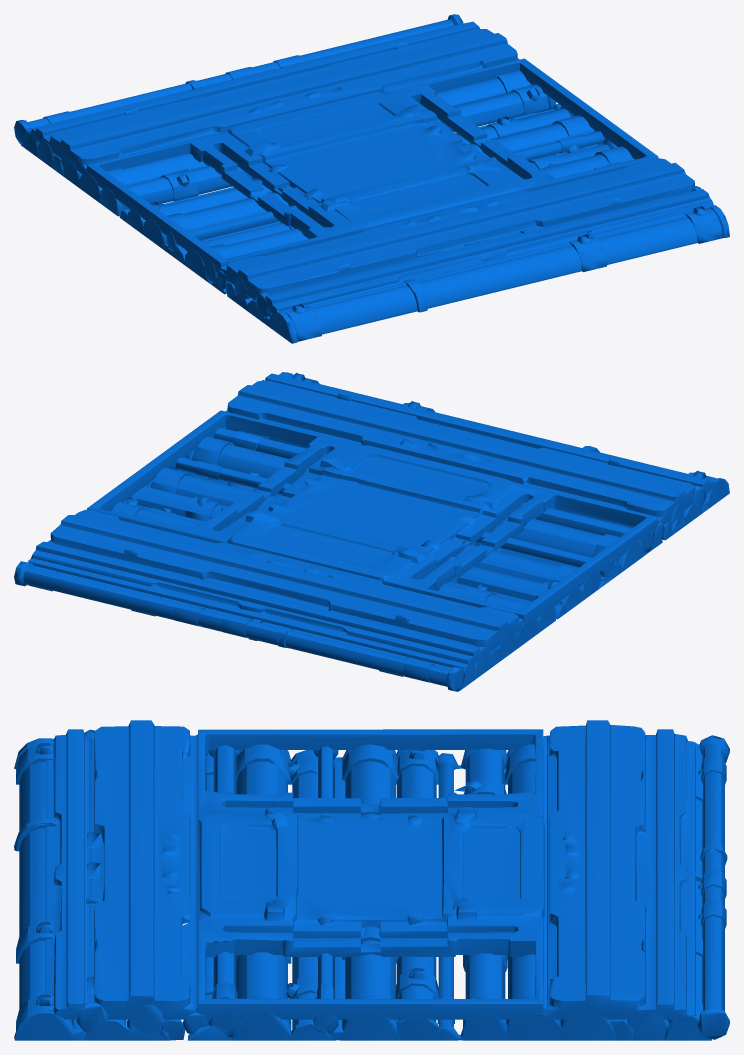
The model's file is Sci-fi_Panel_01_low.fbx.
3 views of the same model, one above another, from view 1: azimuth 30°, elevation 25°; view 2: azimuth 150°, elevation 25°; view 3: azimuth 270°, elevation 25° (orthographic). The views are drawn at different scales.
Parts seen in each view (by area): view 1: Sci-fi_Panel_01_low; view 2: Sci-fi_Panel_01_low; view 3: Sci-fi_Panel_01_low.
Part boxes in pixels (bbox=[...]): Sci-fi_Panel_01_low: bbox=[14, 14, 729, 343]; Sci-fi_Panel_01_low: bbox=[14, 372, 729, 691]; Sci-fi_Panel_01_low: bbox=[14, 720, 729, 1040].
Size of the model in its own units: 1000 by 79.26 by 1100.
